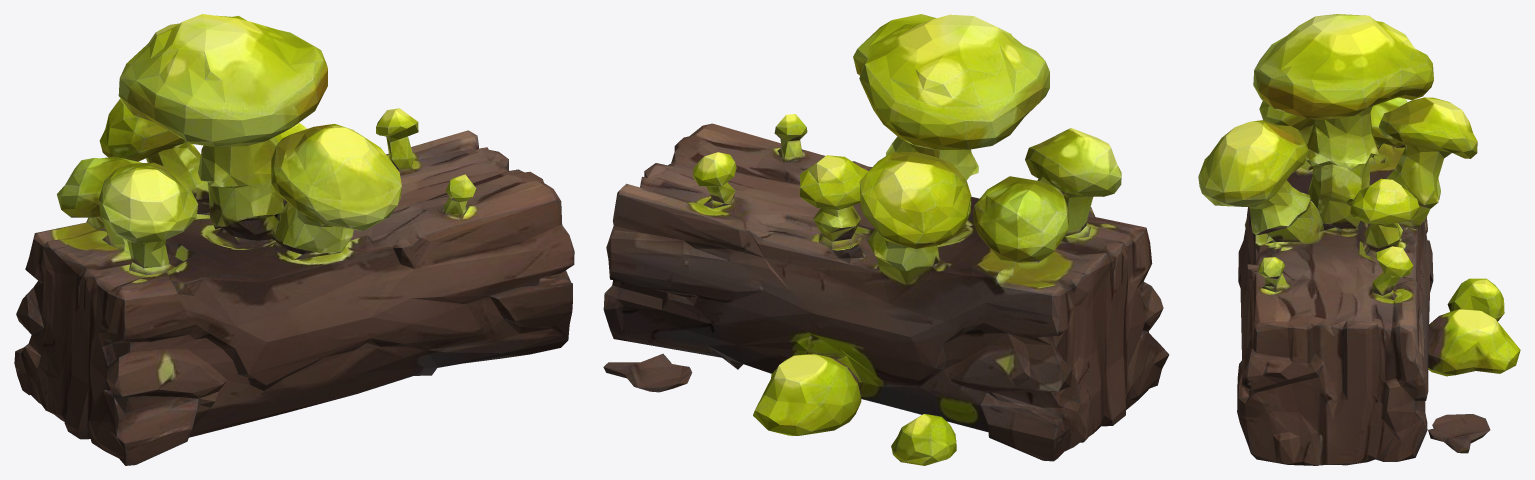
Rendered from fungus_log.glb.
The picture shows the model from 3 angles, left to right: view 1: azimuth 30°, elevation 25°; view 2: azimuth 150°, elevation 25°; view 3: azimuth 270°, elevation 25°; orthographic projection. The views are drawn at different scales.
Parts seen in each view (by area): view 1: tripo_node_3fb43dc7-b168-420e-b1a8-1a38a8bdc2fd.001; view 2: tripo_node_3fb43dc7-b168-420e-b1a8-1a38a8bdc2fd.001; view 3: tripo_node_3fb43dc7-b168-420e-b1a8-1a38a8bdc2fd.001.
Boxes of the visible parts, x1,y1,x2,y2 form: tripo_node_3fb43dc7-b168-420e-b1a8-1a38a8bdc2fd.001: [14, 14, 574, 465]; tripo_node_3fb43dc7-b168-420e-b1a8-1a38a8bdc2fd.001: [603, 14, 1169, 465]; tripo_node_3fb43dc7-b168-420e-b1a8-1a38a8bdc2fd.001: [1198, 14, 1520, 465].
Size of the model in its own units: 1 by 0.7597 by 0.6912.
Materials: 1 (1 with a texture image).
